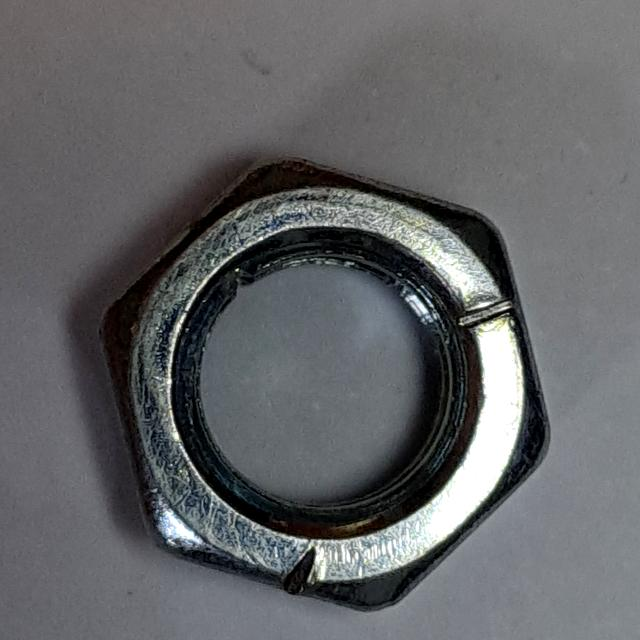Scratches: (93, 143, 575, 624)
